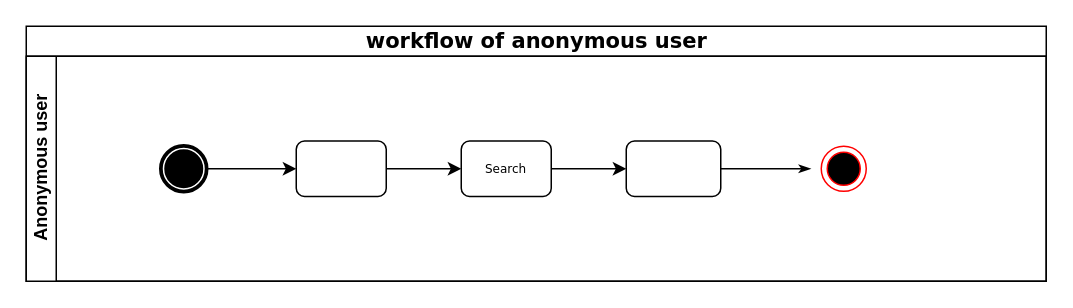
Image size: 1073x308. Some labels were removed from this diagram. The centre of each missing label's shape, as x and y in pixels:
"Main Page" goes at (x=340, y=168).
"View Results" goes at (x=673, y=168).
